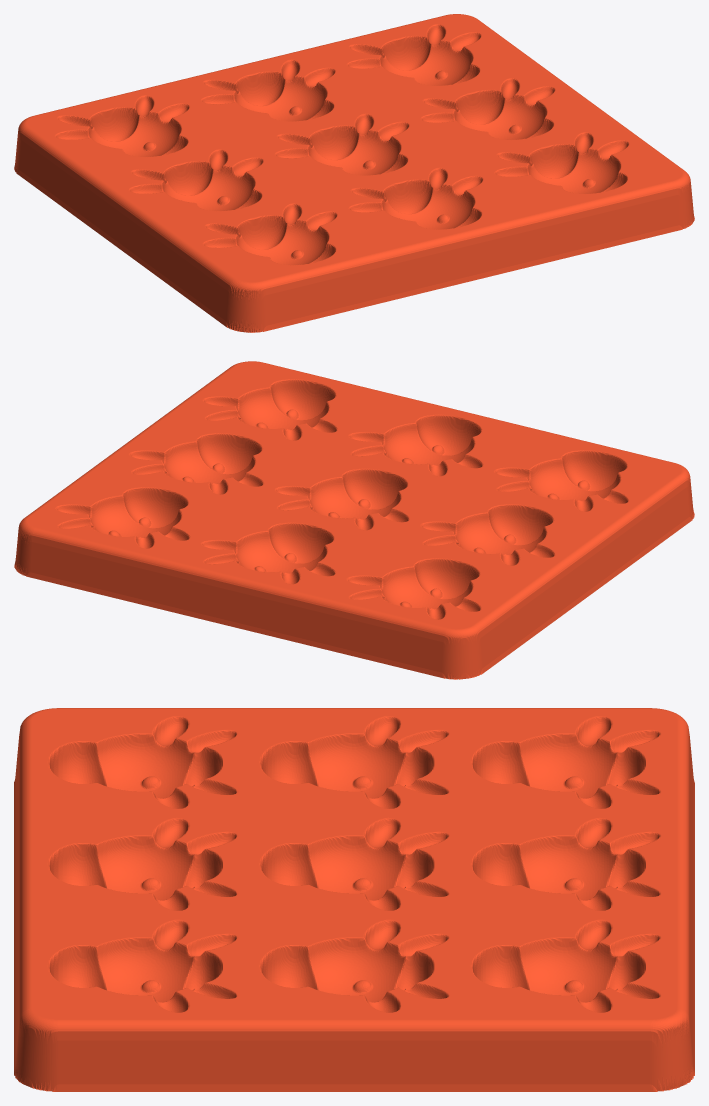
Rendered from mold.glb.
3 renders of one model, top to bottom at view 1: azimuth 30°, elevation 25°; view 2: azimuth 150°, elevation 25°; view 3: azimuth 270°, elevation 25°, orthographic. The views are drawn at different scales.
Visible parts, largest first — view 1: geometry_0; view 2: geometry_0; view 3: geometry_0.
Part boxes in pixels (left/top/right/bottom): geometry_0: left=14, top=14, right=694, bottom=332; geometry_0: left=14, top=361, right=694, bottom=679; geometry_0: left=14, top=708, right=694, bottom=1091.
Bounding box in the file's own units: 0.1563 × 0.0145 × 0.1383.
